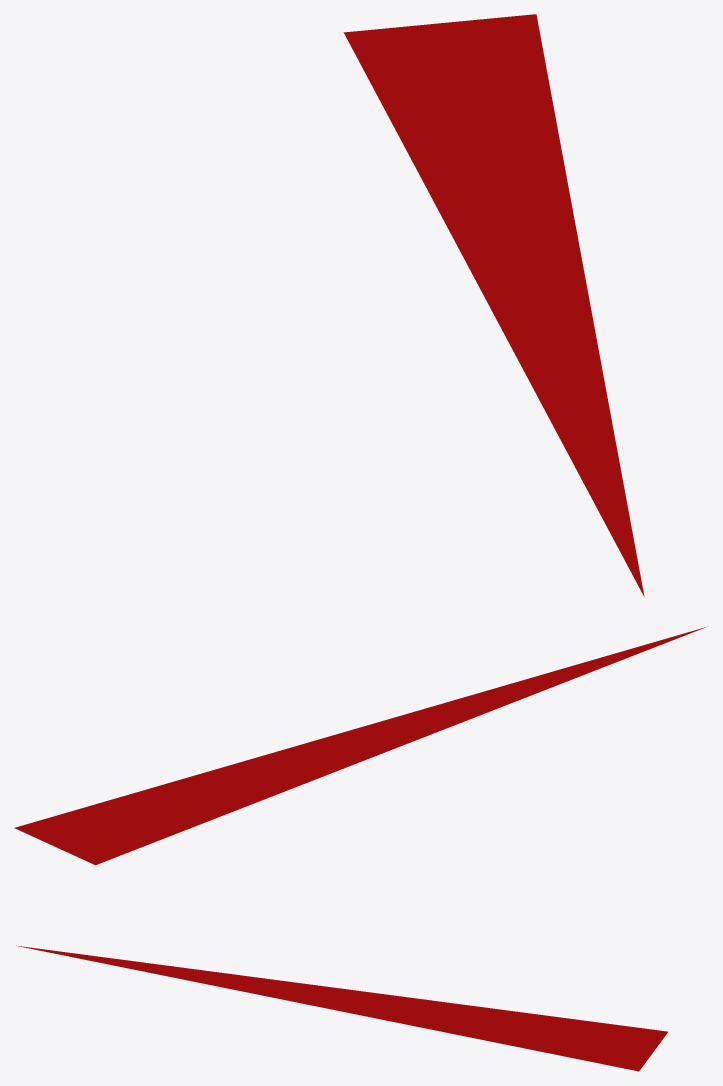
3 renders of one model, top to bottom at view 1: azimuth 30°, elevation 25°; view 2: azimuth 150°, elevation 25°; view 3: azimuth 270°, elevation 25°, orthographic. The views are drawn at different scales.
Size of the model in its own units: 37.81 by 0 by 88.04.
